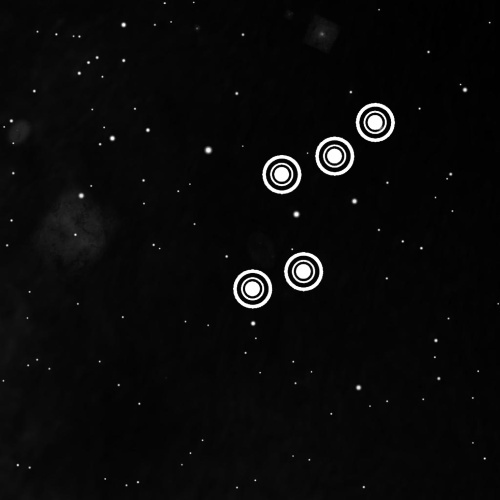lyra: (224, 91, 410, 321)
